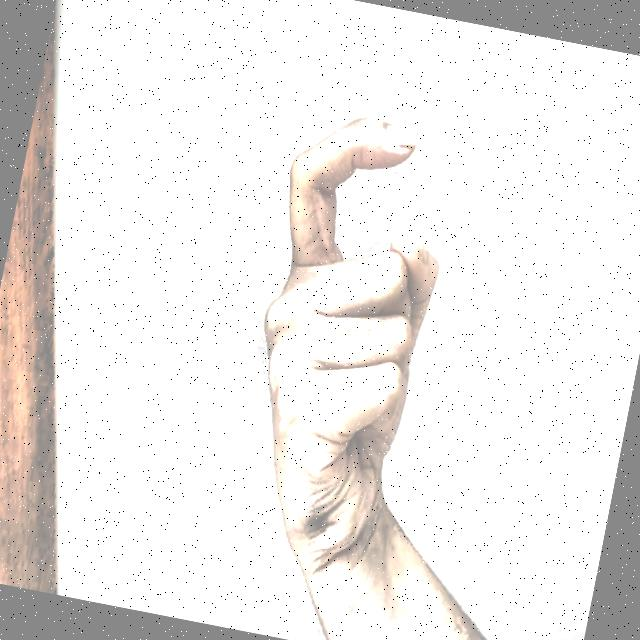E: (174, 56, 553, 602)
